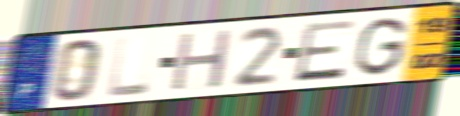0: (50, 36, 104, 103)
2: (233, 24, 285, 89)
E: (291, 17, 358, 84)
G: (351, 15, 410, 79)
H: (168, 27, 236, 94)
L: (106, 34, 152, 100)
